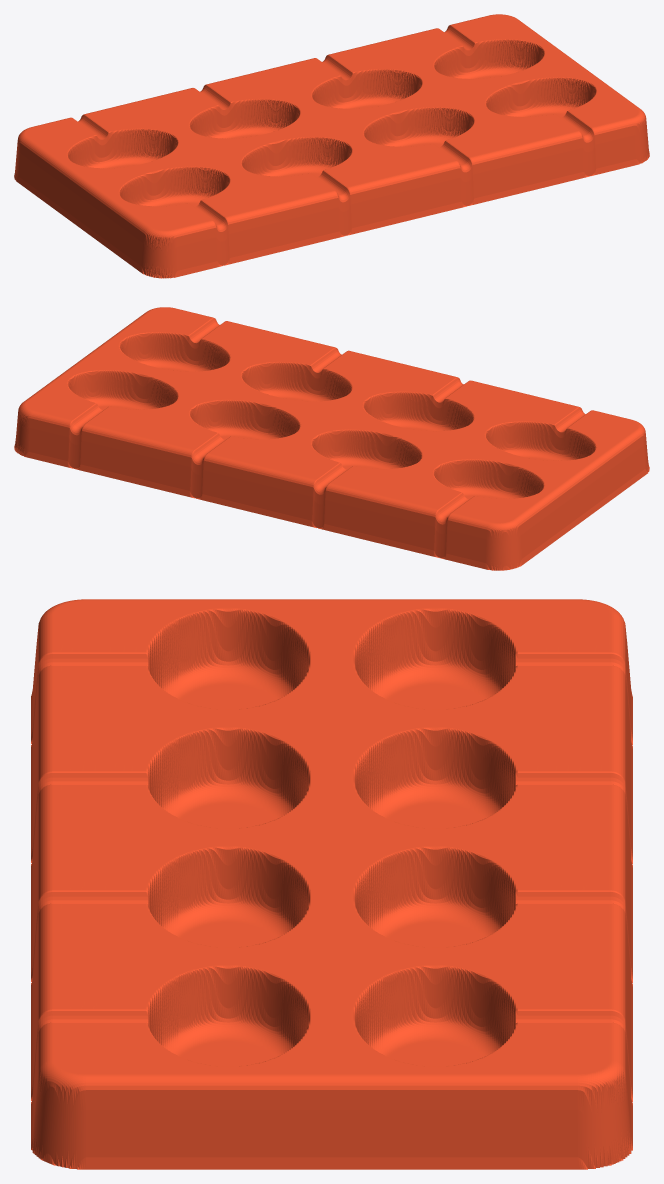
The model's file is mold.glb.
The picture shows the model from 3 angles, top to bottom: view 1: azimuth 30°, elevation 25°; view 2: azimuth 150°, elevation 25°; view 3: azimuth 270°, elevation 25°; orthographic projection. The views are drawn at different scales.
Parts seen in each view (by area): view 1: geometry_0; view 2: geometry_0; view 3: geometry_0.
Part boxes in pixels (x1,y1,x2,y2): geometry_0: (14, 14, 649, 278); geometry_0: (14, 307, 649, 570); geometry_0: (31, 599, 632, 1169).
Bounding box in the file's own units: 0.1907 × 0.0155 × 0.0986.
